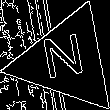N_S: (41, 32, 92, 89)
